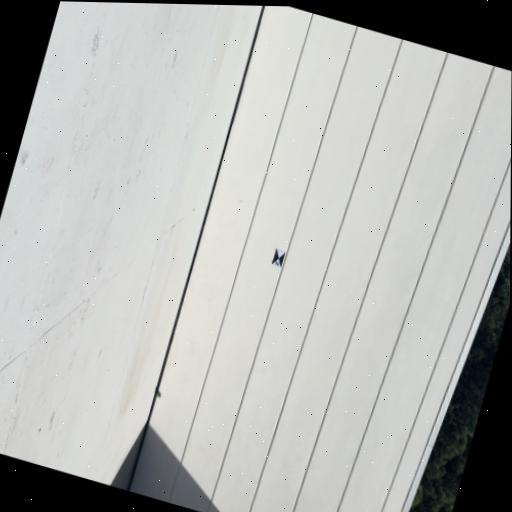target7: (271, 248, 285, 267)
